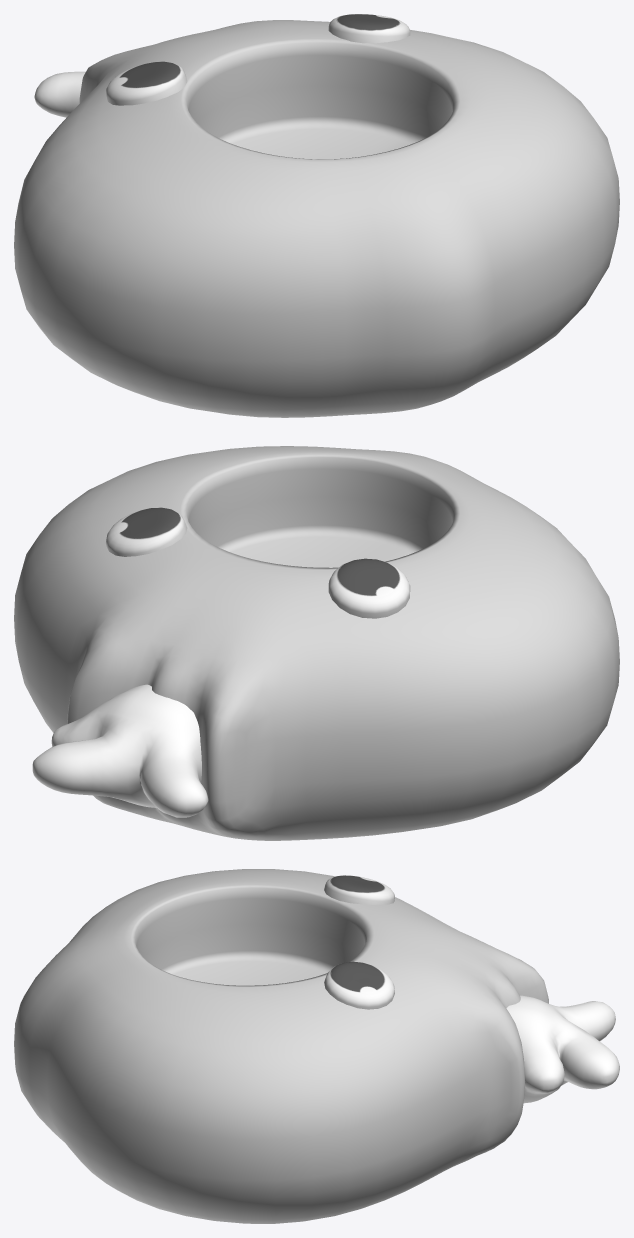
The model's file is Pin_onion_0.fbx.
The picture shows the model from 3 angles, top to bottom: view 1: azimuth 30°, elevation 25°; view 2: azimuth 150°, elevation 25°; view 3: azimuth 270°, elevation 25°; orthographic projection. The views are drawn at different scales.
Parts seen in each view (by area): view 1: Pin_onion, polySurface9; view 2: Pin_onion, polySurface9; view 3: Pin_onion, polySurface9.
Part boxes in pixels (box(x1,y1,x2,y2)): Pin_onion: box(14, 20, 619, 417); polySurface9: box(105, 14, 410, 105); Pin_onion: box(14, 446, 619, 840); polySurface9: box(106, 507, 410, 618); Pin_onion: box(14, 869, 619, 1223); polySurface9: box(324, 875, 394, 1009).
Bounding box in the file's own units: 0.7542 × 0.3564 × 0.8371.
Materials: 3 (1 with a texture image).
